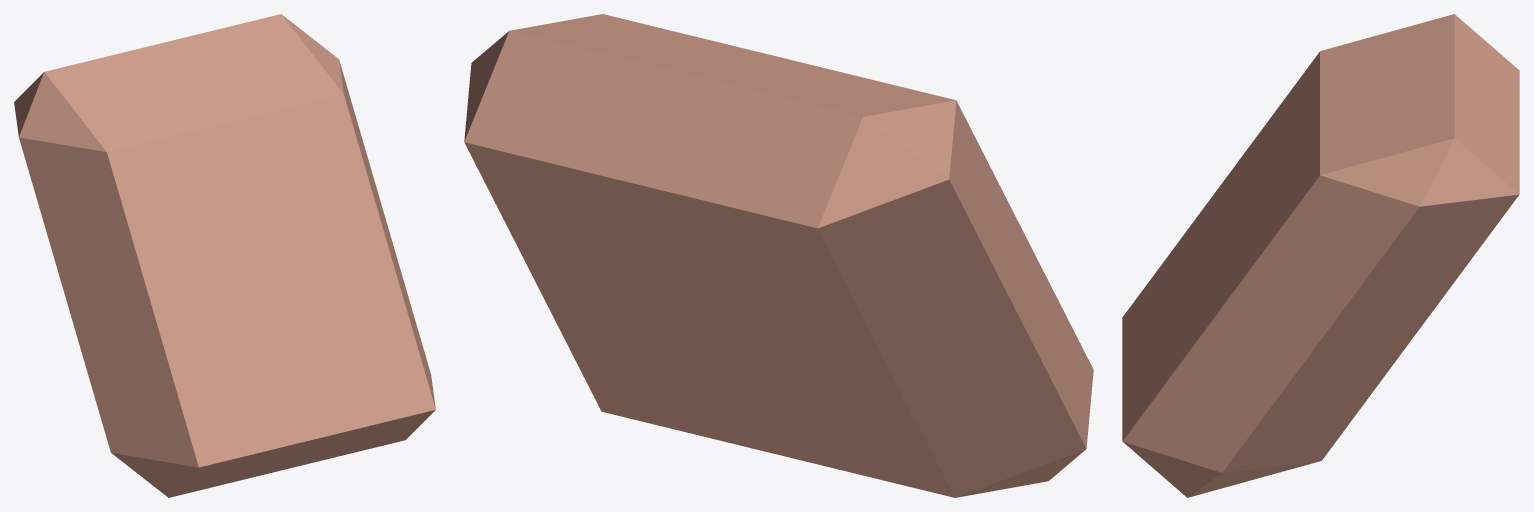
File: pillow.glb
3 views of the same model, side by side, from view 1: azimuth 30°, elevation 25°; view 2: azimuth 150°, elevation 25°; view 3: azimuth 270°, elevation 25° (orthographic). The views are drawn at different scales.
Size of the model in its own units: 1 by 1 by 1.
